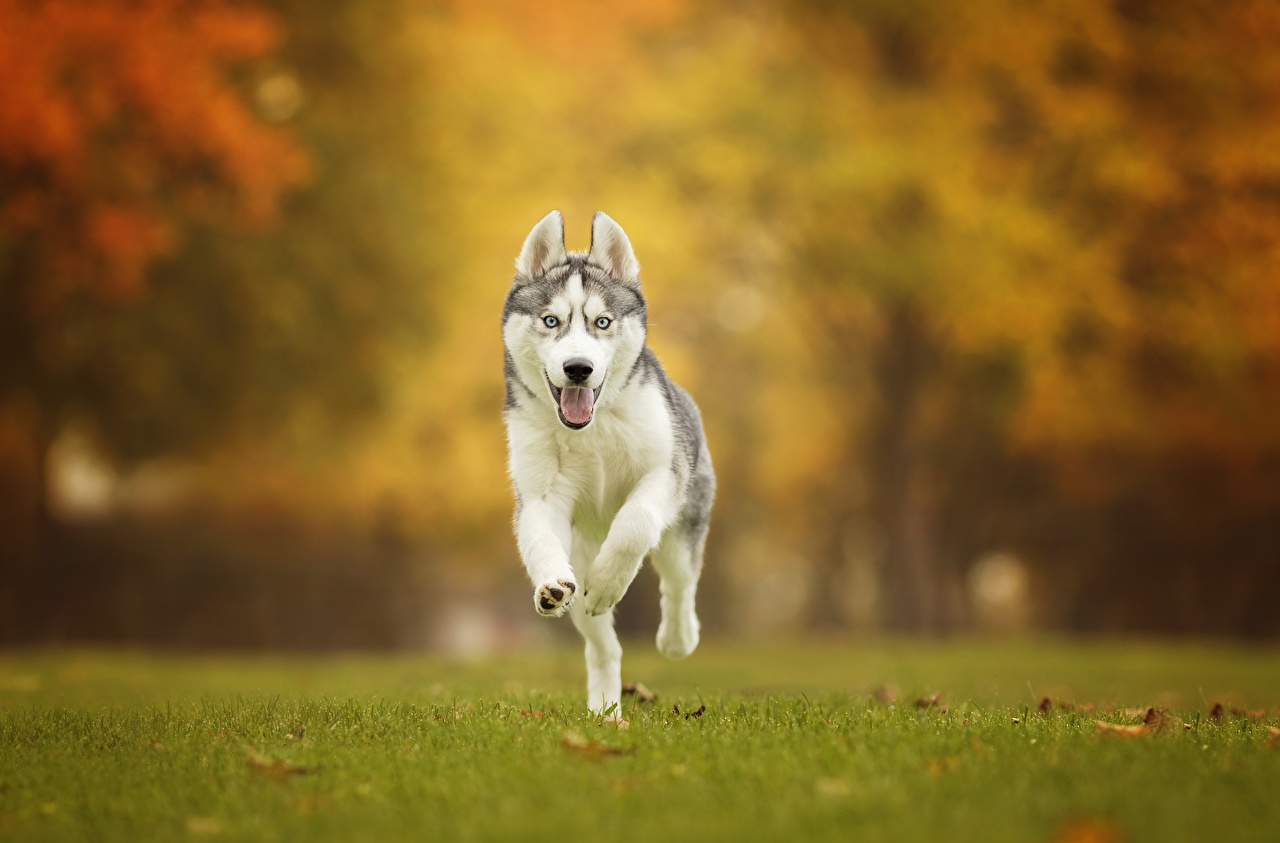husky: (430, 179, 767, 729)
